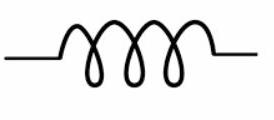inductor: (50, 10, 224, 95)
